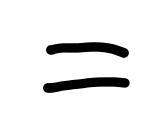eqv: (44, 43, 129, 92)
